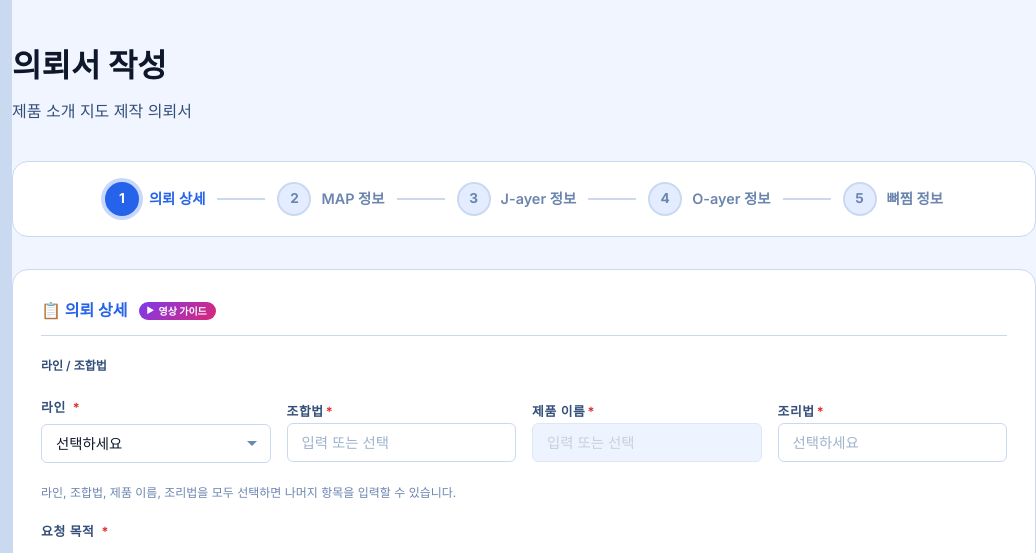
Test: ADI CD 변경 — 행 단위 미등록 선택 › 반대쪽 같은 행이 비어 있으면 확인 없이 양쪽에서 바로 삭제된다
The width and height of the screenshot is (1036, 553).
Select "라인1" in the 1st dropdown named "line" at {"x": 156, "y": 444}, box [41,424,270,463]
Type "조합법A" into the 1st field with placeholder "입력 또는 선택".
click(401, 443); type("조합법A")  # box [286,423,516,462]
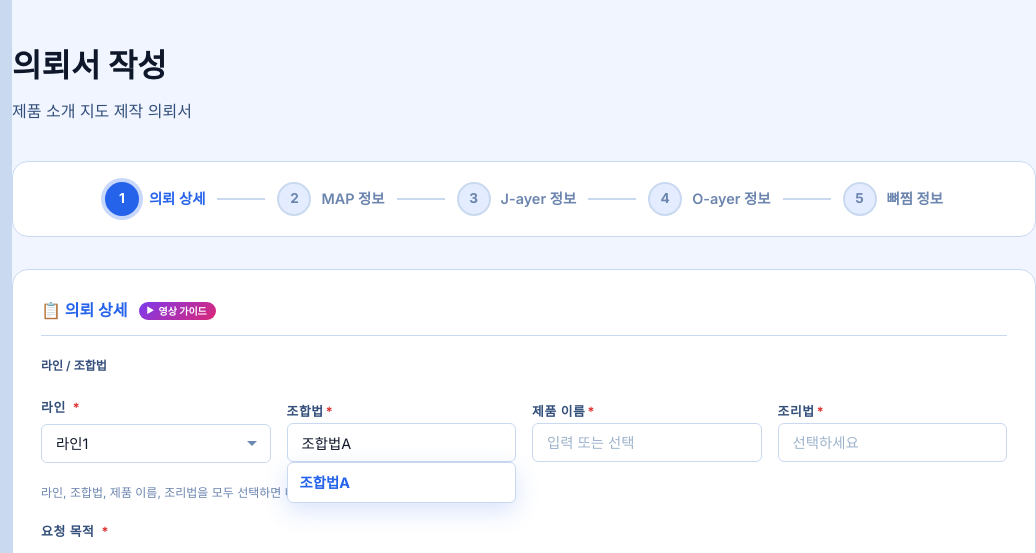
Type "제품A" into the field with placeholder "입력 또는 선택".
click(647, 443); type("제품A")  # box [532,423,762,462]
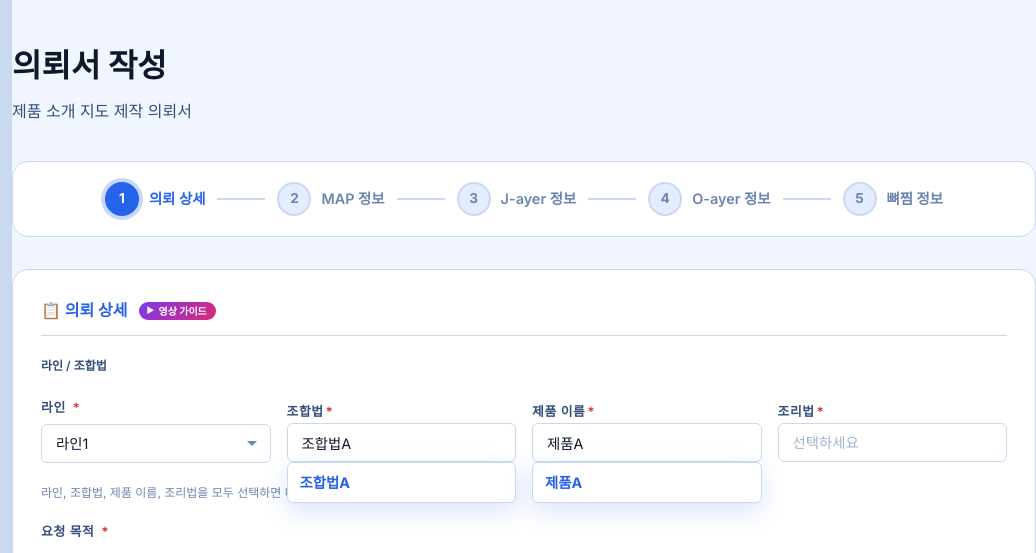
Type "PROC_X1" into the 1st field with placeholder "선택하세요".
click(892, 443); type("PROC_X1")  # box [778,423,1007,462]
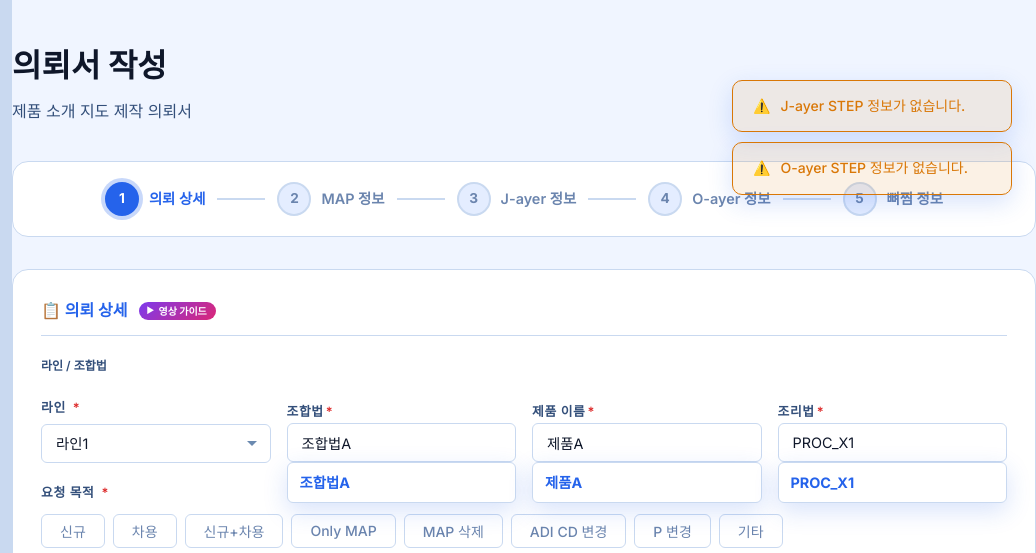
Click the button "기타".
click(751, 530)  # box [719,514,783,548]
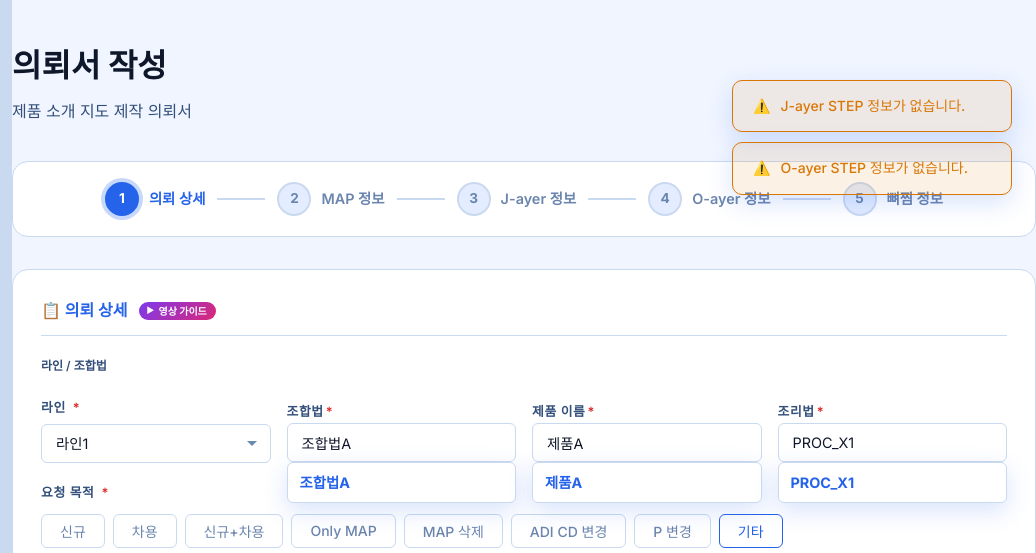
Click the button "ADI CD 변경".
click(569, 530)  # box [511,514,626,548]
(page scrolled)
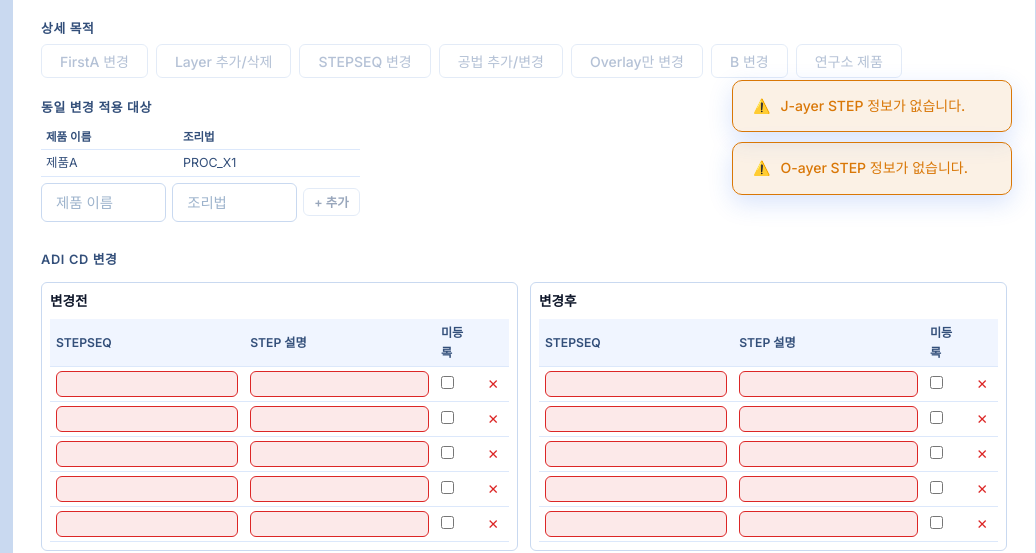
Click the 1st button with class "adi-cd-row-remove".
click(493, 384)  # box [484,378,503,391]
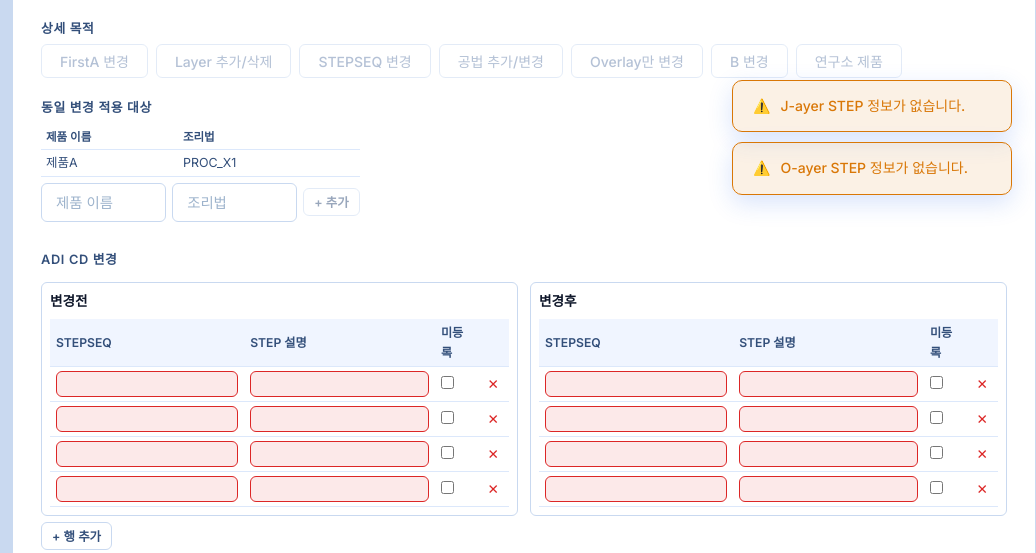
Expected: the number of buttons with class "adi-cd-row-remove" is 8
